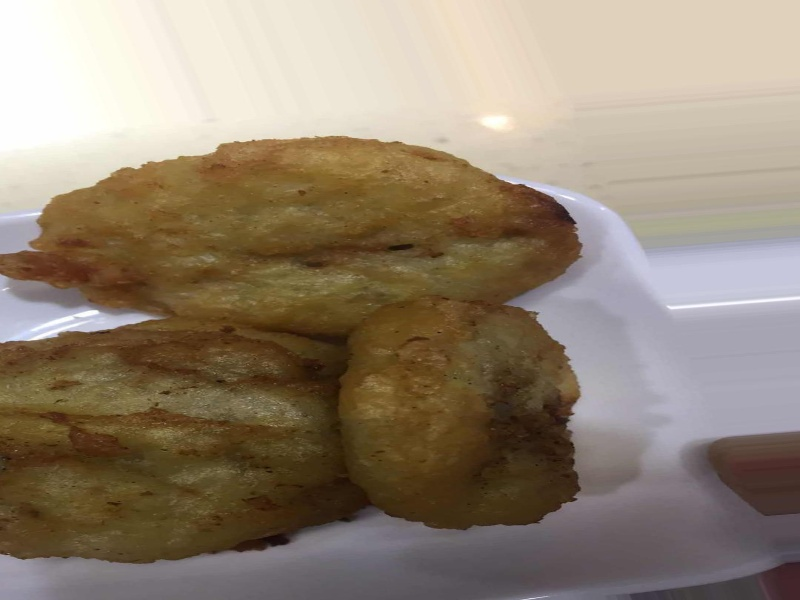patato: (1, 117, 590, 572)
